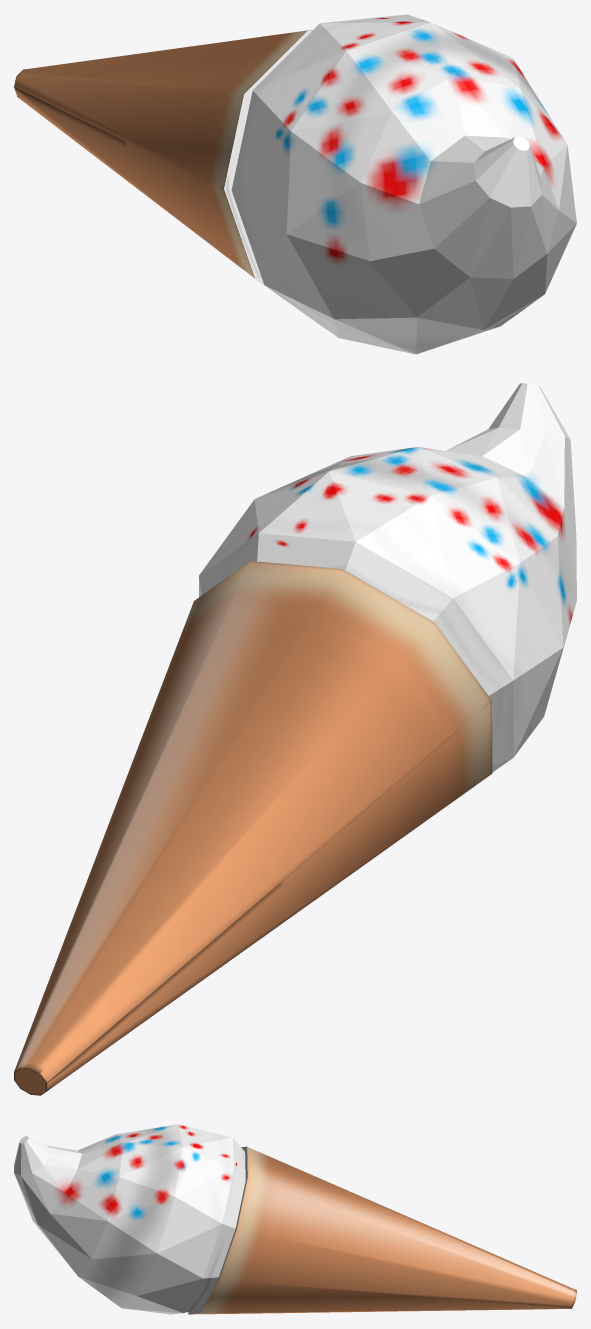
The model's file is Ice_cream_02.FBX.
3 renders of one model, top to bottom at view 1: azimuth 30°, elevation 25°; view 2: azimuth 150°, elevation 25°; view 3: azimuth 270°, elevation 25°, orthographic. The views are drawn at different scales.
Parts seen in each view (by area): view 1: Cylinder046; view 2: Cylinder046; view 3: Cylinder046.
Boxes of the visible parts, x1,y1,x2,y2 form: Cylinder046: [14, 14, 576, 354]; Cylinder046: [14, 383, 576, 1095]; Cylinder046: [14, 1124, 576, 1314].
Bounding box in the file's own units: 213 × 216 × 616.
